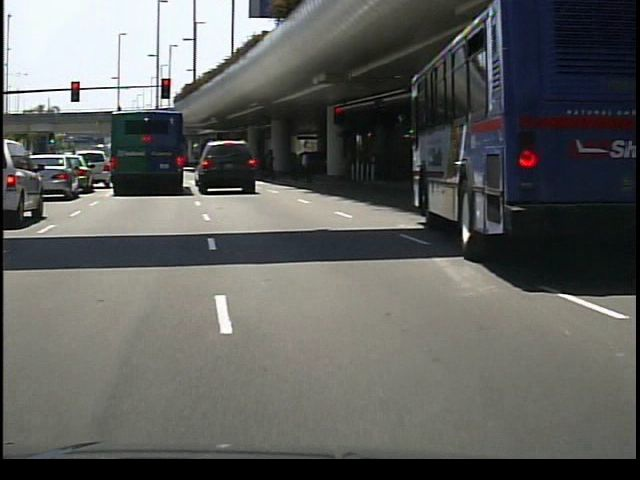person: (262, 144, 284, 184), (295, 148, 315, 185)
